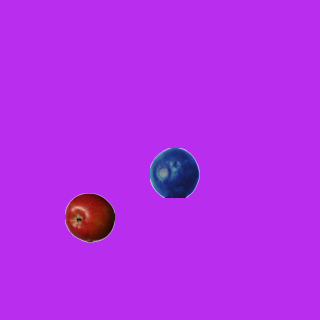Apple Braeburn: (64, 192, 114, 242)
Huckleberry: (149, 147, 199, 197)
